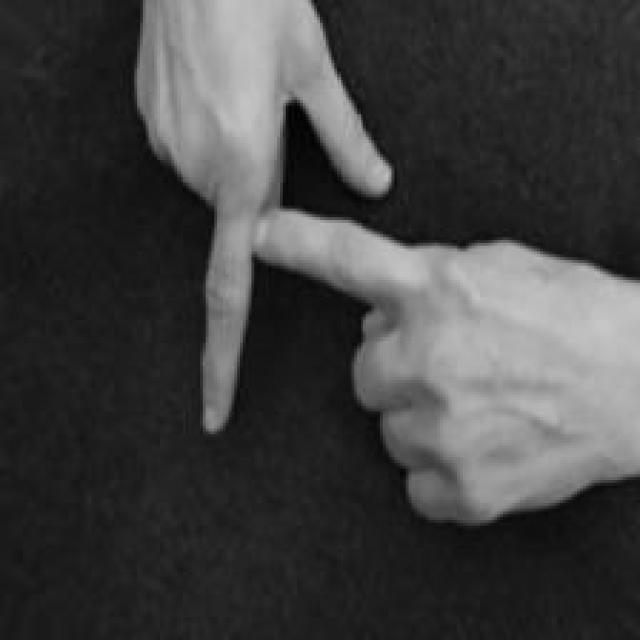F: (137, 0, 640, 523)
